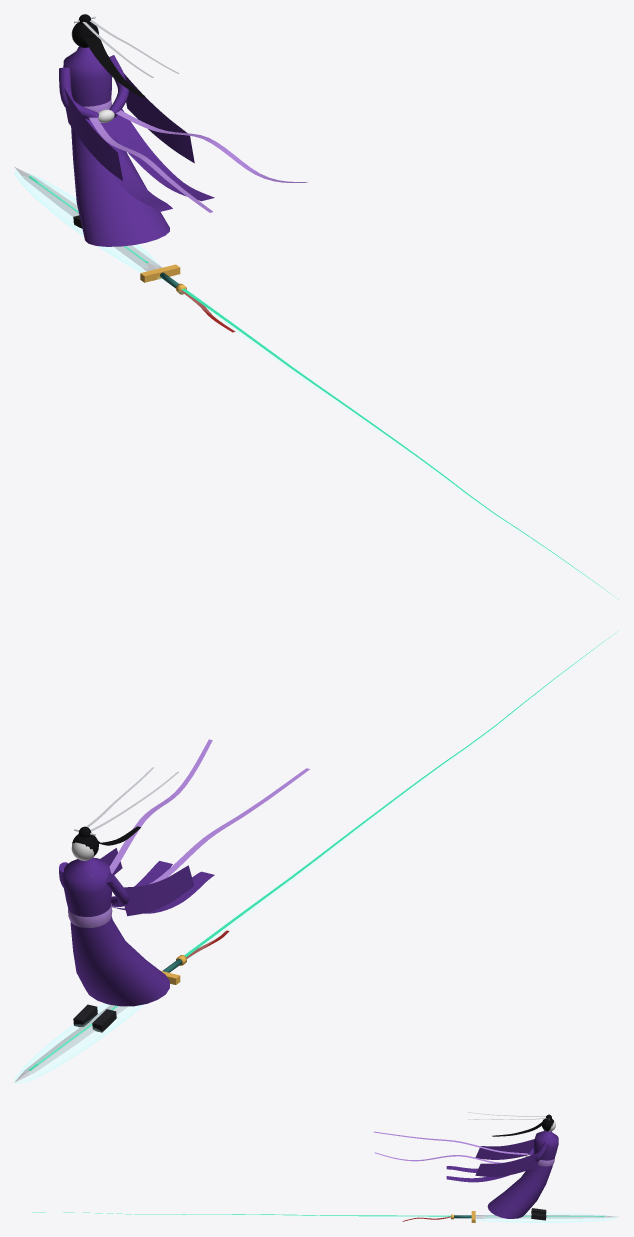
Rendered from flyer.glb.
3 views of the same model, one above another, from view 1: azimuth 30°, elevation 25°; view 2: azimuth 150°, elevation 25°; view 3: azimuth 270°, elevation 25° (orthographic). The views are drawn at different scales.
Parts seen in each view (by area): view 1: flyer.robe_skirt.001, flyer.sword_aura.001, flyer.torso.001, flyer.robe_tail.003, flyer.sleeve.003, flyer.sleeve.002, flyer.sword_trail.002, flyer.robe_tail.002, flyer.sword_blade.001, flyer.sword_trail.003, flyer.sash_ribbon.003, flyer.sash_ribbon.002; view 2: flyer.robe_skirt.001, flyer.sword_aura.001, flyer.torso.001, flyer.sleeve.002, flyer.sword_trail.002, flyer.sword_trail.003, flyer.sword_blade.001, flyer.sash_ribbon.002, flyer.sash_ribbon.003; view 3: flyer.robe_skirt.001, flyer.sword_aura.001, flyer.sleeve.003, flyer.sleeve.002, flyer.torso.001, flyer.sword_trail.003, flyer.sword_trail.002, flyer.sword_blade.001, flyer.sash_ribbon.002, flyer.robe_tail.003, flyer.sash_ribbon.003.
Boxes of the visible parts, x1,y1,x2,y2 form: flyer.robe_skirt.001: [71, 127, 169, 246]; flyer.sword_aura.001: [14, 170, 163, 280]; flyer.torso.001: [63, 46, 112, 106]; flyer.robe_tail.003: [104, 109, 214, 201]; flyer.sleeve.003: [123, 73, 194, 163]; flyer.sleeve.002: [64, 88, 122, 180]; flyer.sword_trail.002: [178, 289, 612, 596]; flyer.robe_tail.002: [85, 119, 172, 211]; flyer.sword_blade.001: [14, 167, 161, 271]; flyer.sword_trail.003: [181, 288, 618, 599]; flyer.sash_ribbon.003: [108, 109, 307, 182]; flyer.sash_ribbon.002: [89, 117, 212, 212]; flyer.robe_skirt.001: [70, 916, 169, 1006]; flyer.sword_aura.001: [14, 1003, 142, 1083]; flyer.torso.001: [63, 857, 111, 916]; flyer.sleeve.002: [124, 865, 194, 916]; flyer.sword_trail.002: [183, 637, 611, 960]; flyer.sword_trail.003: [184, 632, 616, 957]; flyer.sword_blade.001: [14, 1005, 128, 1082]; flyer.sash_ribbon.002: [149, 768, 309, 884]; flyer.sash_ribbon.003: [109, 739, 212, 873]; flyer.robe_skirt.001: [487, 1165, 552, 1218]; flyer.sword_aura.001: [468, 1213, 616, 1222]; flyer.sleeve.003: [475, 1152, 539, 1176]; flyer.sleeve.002: [475, 1139, 534, 1159]; flyer.torso.001: [533, 1130, 558, 1160]; flyer.sword_trail.003: [32, 1212, 450, 1216]; flyer.sword_trail.002: [75, 1213, 450, 1217]; flyer.sword_blade.001: [475, 1215, 618, 1218]; flyer.sash_ribbon.002: [373, 1131, 527, 1154]; flyer.robe_tail.003: [446, 1175, 509, 1182]; flyer.sash_ribbon.003: [374, 1152, 503, 1163].
Size of the model in its own units: 0.9575 by 1.92 by 9.98.
